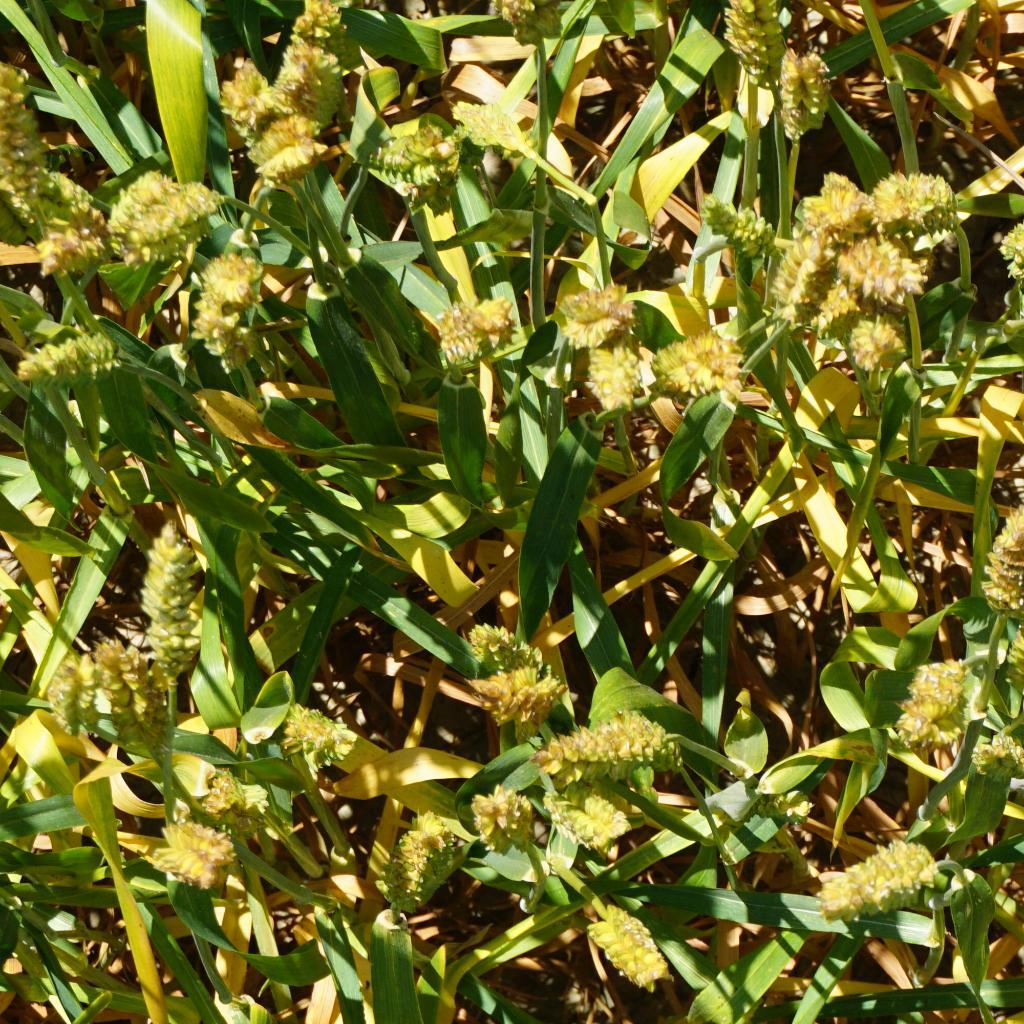0-0: (106, 163, 233, 263), (130, 530, 210, 680), (5, 320, 139, 393), (264, 12, 343, 135), (375, 802, 459, 907), (86, 641, 160, 755), (586, 899, 671, 996), (366, 120, 462, 203), (540, 776, 640, 855), (430, 90, 529, 168), (216, 56, 292, 156), (816, 844, 927, 909), (0, 71, 50, 211), (244, 108, 335, 184), (557, 714, 673, 773), (771, 46, 829, 153), (651, 324, 742, 392), (157, 811, 238, 886), (704, 775, 816, 829), (424, 293, 517, 358), (864, 180, 962, 236), (460, 668, 567, 719), (724, 0, 787, 83), (897, 660, 958, 744), (797, 160, 869, 231), (40, 656, 103, 736), (685, 194, 769, 254), (201, 766, 276, 833), (552, 280, 631, 342), (578, 332, 643, 406), (285, 701, 352, 771), (23, 224, 108, 278), (471, 623, 552, 677), (847, 239, 918, 299), (783, 252, 841, 322), (473, 784, 542, 840), (187, 301, 246, 365), (24, 160, 89, 218), (985, 514, 1024, 600), (196, 245, 250, 306), (854, 308, 907, 366), (509, 0, 556, 60), (975, 732, 1024, 777), (1008, 610, 1024, 707), (1005, 208, 1024, 288)
